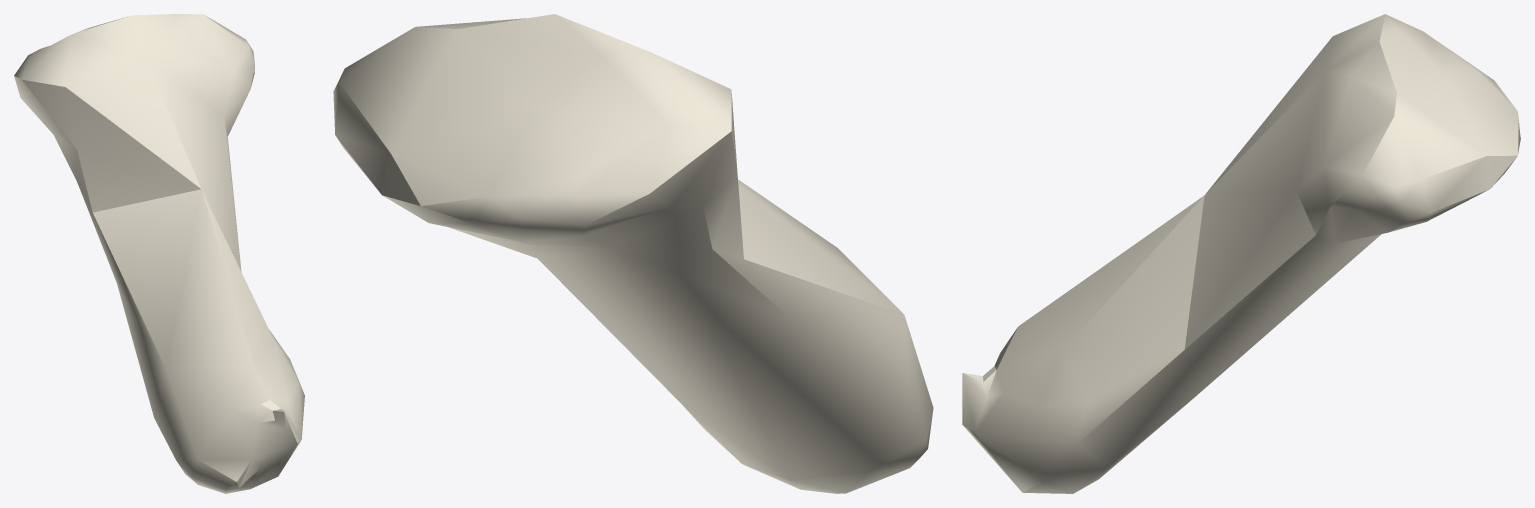
File: fma23959_fj3184.glb
3 views of the same model, side by side, from view 1: azimuth 30°, elevation 25°; view 2: azimuth 150°, elevation 25°; view 3: azimuth 270°, elevation 25° (orthographic). The views are drawn at different scales.
Parts seen in each view (by area): view 1: FMA23959_FJ3184; view 2: FMA23959_FJ3184; view 3: FMA23959_FJ3184.
Boxes of the visible parts, x1,y1,x2,y2 form: FMA23959_FJ3184: (14, 14, 304, 493); FMA23959_FJ3184: (333, 14, 933, 493); FMA23959_FJ3184: (962, 14, 1520, 493).
Bounding box in the file's own units: 0.00826 × 0.0127 × 0.0139.
